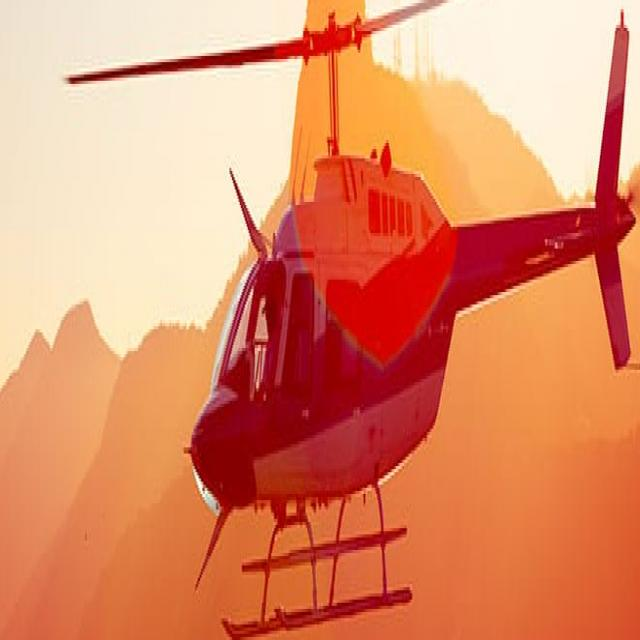helicopter: (51, 1, 640, 640)
